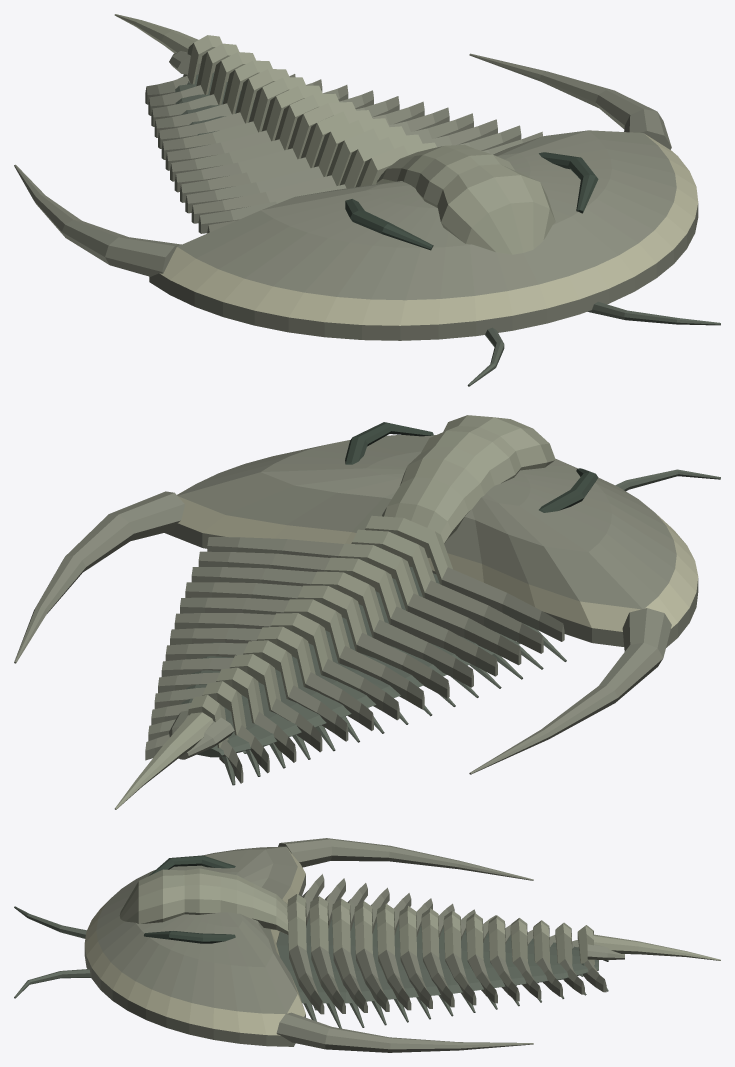
The picture shows the model from 3 angles, top to bottom: view 1: azimuth 30°, elevation 25°; view 2: azimuth 150°, elevation 25°; view 3: azimuth 270°, elevation 25°; orthographic projection. The views are drawn at different scales.
Parts seen in each view (by area): view 1: Crescent-cephalon, Lobate-central-glabella, Long-genal-spine-left, Articulated-thorax-04, Articulated-thorax-03, Articulated-thorax-05, Long-genal-spine-right, Articulated-thorax-06, Articulated-thorax-07, Articulated-thorax-08, Articulated-thorax-02, Articulated-thorax-09 (+11 smaller); view 2: Crescent-cephalon, Lobate-central-glabella, Articulated-thorax-01, Articulated-thorax-02, Articulated-thorax-03, Inferred-intersegment-body, Articulated-thorax-04, Long-genal-spine-right, Long-genal-spine-left, Articulated-thorax-05, Articulated-thorax-06, Articulated-thorax-07 (+13 smaller); view 3: Crescent-cephalon, Lobate-central-glabella, Inferred-intersegment-body, Long-genal-spine-right, Long-genal-spine-left, Articulated-thorax-01, Articulated-thorax-02, Articulated-thorax-03, Articulated-thorax-04, Articulated-thorax-05, Articulated-thorax-06, Articulated-thorax-07 (+14 smaller).
Boxes of the visible parts, <box> form: Crescent-cephalon: <box>149,130,698,340</box>; Lobate-central-glabella: <box>376,144,555,254</box>; Long-genal-spine-left: <box>14,164,181,276</box>; Articulated-thorax-04: <box>185,118,497,213</box>; Articulated-thorax-03: <box>191,125,521,223</box>; Articulated-thorax-05: <box>180,110,473,202</box>; Long-genal-spine-right: <box>469,53,671,149</box>; Articulated-thorax-06: <box>174,102,449,192</box>; Articulated-thorax-07: <box>170,93,424,181</box>; Articulated-thorax-08: <box>165,85,399,170</box>; Articulated-thorax-02: <box>198,131,542,233</box>; Articulated-thorax-09: <box>161,77,373,159</box>; Crescent-cephalon: <box>164,435,698,647</box>; Lobate-central-glabella: <box>382,415,555,557</box>; Articulated-thorax-01: <box>207,515,564,641</box>; Articulated-thorax-02: <box>198,529,543,653</box>; Articulated-thorax-03: <box>191,543,521,665</box>; Inferred-intersegment-body: <box>181,566,533,757</box>; Articulated-thorax-04: <box>185,557,497,676</box>; Long-genal-spine-right: <box>14,491,184,663</box>; Long-genal-spine-left: <box>469,608,671,774</box>; Articulated-thorax-05: <box>180,571,473,687</box>; Articulated-thorax-06: <box>174,585,449,698</box>; Articulated-thorax-07: <box>170,599,424,709</box>; Crescent-cephalon: <box>84,846,305,1046</box>; Lobate-central-glabella: <box>119,868,288,934</box>; Inferred-intersegment-body: <box>276,917,598,1003</box>; Long-genal-spine-right: <box>276,1012,533,1052</box>; Long-genal-spine-left: <box>278,838,533,880</box>; Articulated-thorax-01: <box>287,874,324,1014</box>; Articulated-thorax-02: <box>309,878,345,1013</box>; Articulated-thorax-03: <box>332,883,367,1012</box>; Articulated-thorax-04: <box>354,887,389,1011</box>; Articulated-thorax-05: <box>376,893,411,1010</box>; Articulated-thorax-06: <box>399,898,432,1008</box>; Articulated-thorax-07: <box>421,903,454,1007</box>.
Bounding box in the file's own units: 0.0538 × 0.0129 × 0.08.
